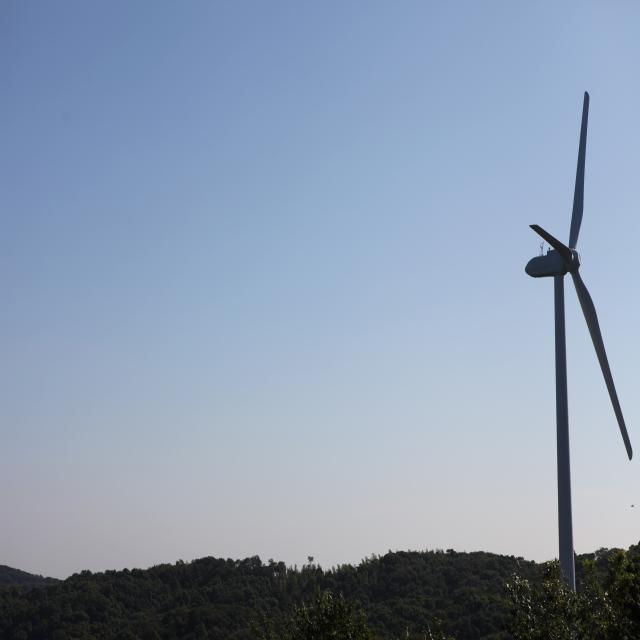bird: (629, 502, 636, 509)
